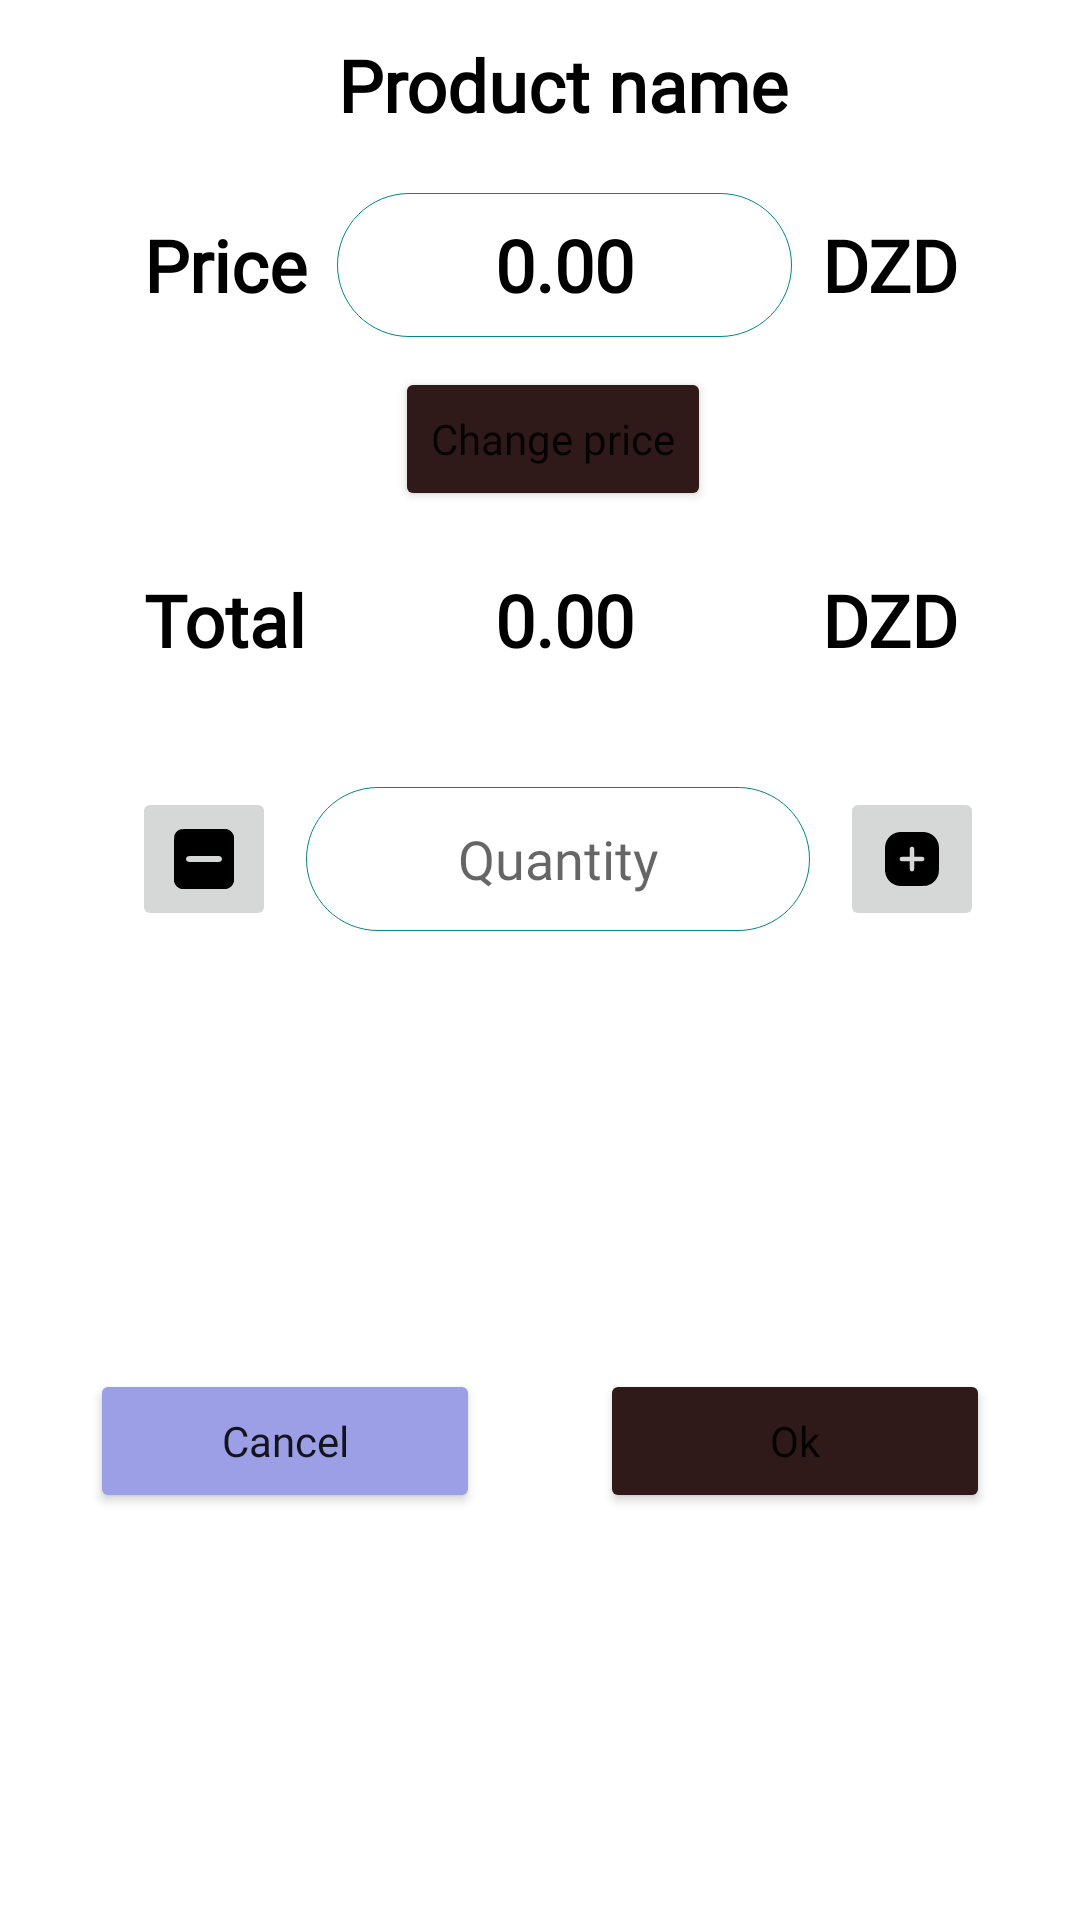

Locate icon controls on the screen. Image size 1080px×1920px, boxes as box(x1, y1, x2, y2).
minus: box(144, 805, 264, 913)
plus: box(852, 805, 972, 913)
